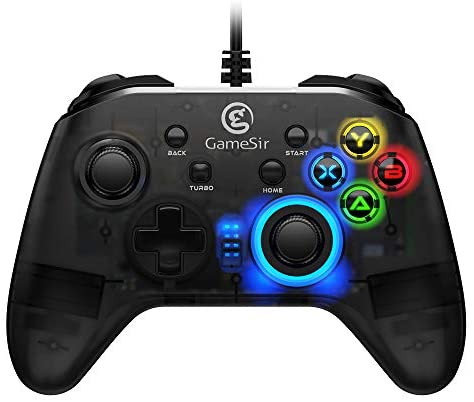controller: (7, 74, 466, 395)
